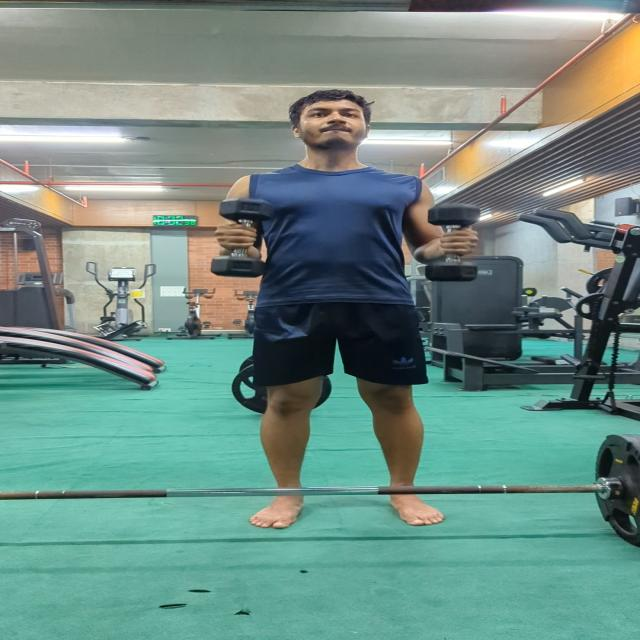Normal_DumbbellBicepCurls: (178, 82, 491, 532)
